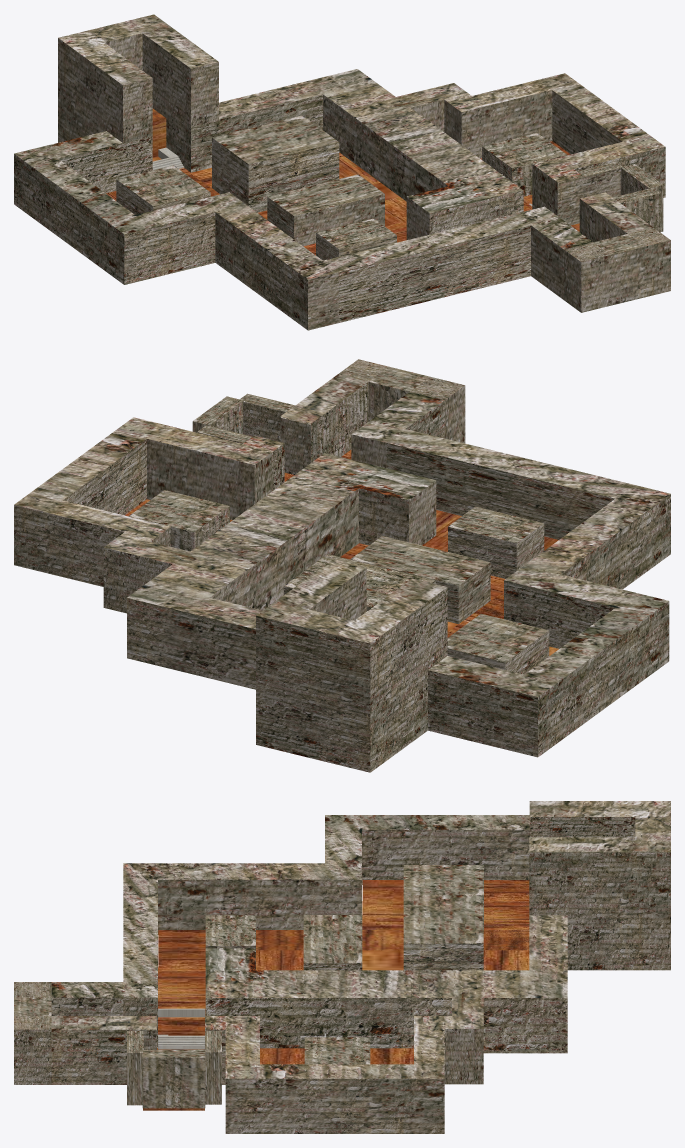
File: sstage_2.fbx
3 renders of one model, top to bottom at view 1: azimuth 30°, elevation 25°; view 2: azimuth 150°, elevation 25°; view 3: azimuth 270°, elevation 25°, orthographic. The views are drawn at different scales.
Visible parts, largest first — view 1: Cube.004, Cube, Cube.058, Cube.057, Cube.007; view 2: Cube.004, Cube, Cube.057, Cube.059, Cube.007; view 3: Cube.004, Cube, Cube.007, Cube.058, Cube.057, Cube.002.
Part boxes in pixels (bbox=[...]): Cube.004: bbox=[14, 14, 670, 330]; Cube: bbox=[106, 108, 570, 255]; Cube.058: bbox=[557, 161, 622, 225]; Cube.057: bbox=[613, 188, 660, 232]; Cube.007: bbox=[620, 164, 663, 231]; Cube.004: bbox=[14, 359, 670, 772]; Cube: bbox=[125, 450, 558, 655]; Cube.057: bbox=[240, 393, 294, 441]; Cube.059: bbox=[280, 416, 310, 474]; Cube.007: bbox=[192, 396, 243, 434]; Cube.004: bbox=[14, 801, 670, 1133]; Cube: bbox=[157, 880, 529, 1064]; Cube.007: bbox=[142, 1050, 205, 1108]; Cube.058: bbox=[205, 1031, 221, 1104]; Cube.057: bbox=[127, 1031, 143, 1105]; Cube.002: bbox=[158, 1035, 204, 1049].
Size of the model in its own units: 3301 by 792 by 3478.
Materials: 39 (15 with a texture image).
